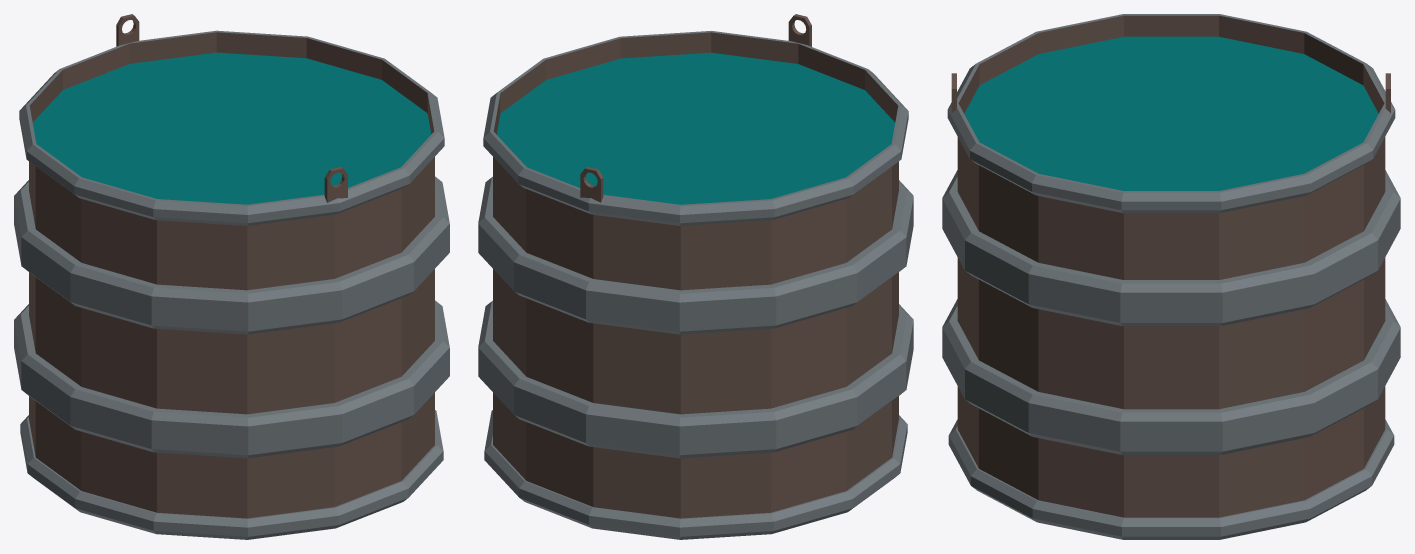
Rendered from Bucket.fbx.
3 views of the same model, side by side, from view 1: azimuth 30°, elevation 25°; view 2: azimuth 150°, elevation 25°; view 3: azimuth 270°, elevation 25° (orthographic). The views are drawn at different scales.
Visible parts, largest first — view 1: Cylinder.002; view 2: Cylinder.002; view 3: Cylinder.002.
Part boxes in pixels (<box>): Cylinder.002: <box>14,14,449,539</box>; Cylinder.002: <box>478,14,913,539</box>; Cylinder.002: <box>942,14,1400,539</box>.
Bounding box in the file's own units: 209 × 194 × 215.
